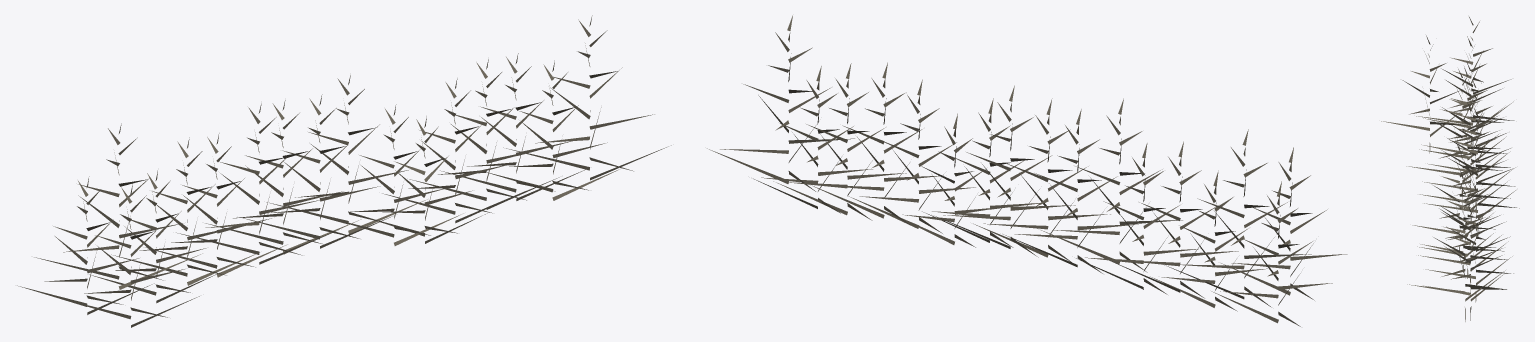
File: xiyuan-vegetation-24-far.glb
3 views of the same model, side by side, from view 1: azimuth 30°, elevation 25°; view 2: azimuth 150°, elevation 25°; view 3: azimuth 270°, elevation 25° (orthographic). The views are drawn at different scales.
Visible parts, largest first — view 1: vegetation cedar branches; view 2: vegetation cedar branches; view 3: vegetation cedar branches.
Boxes of the visible parts, x1,y1,x2,y2 form: vegetation cedar branches: (17,15,671,327); vegetation cedar branches: (707,15,1347,326); vegetation cedar branches: (1381,17,1519,321).
Bounding box in the file's own units: 36.2 × 10.51 × 9.47.
